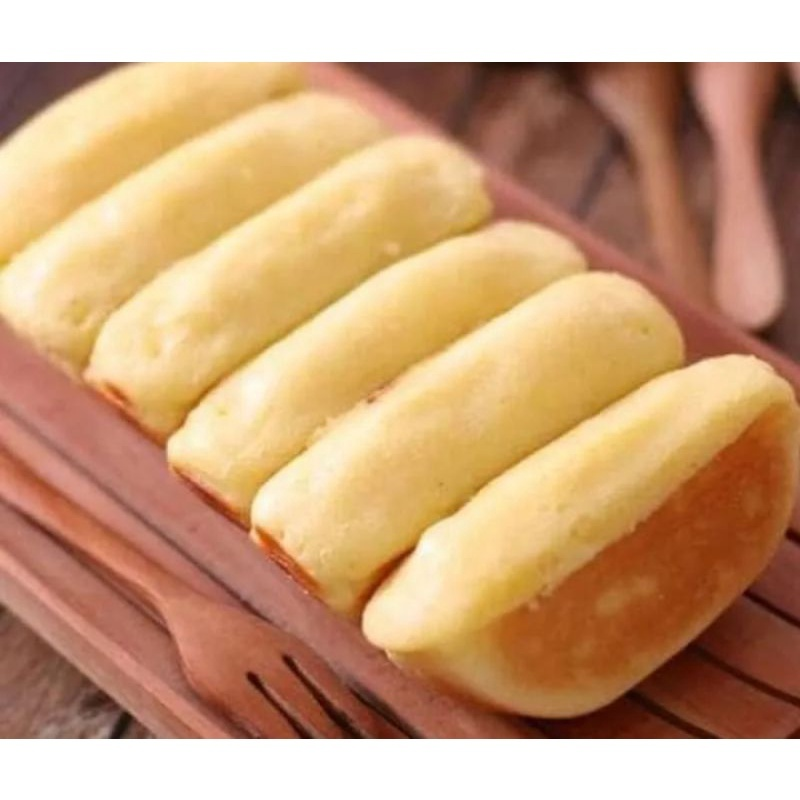pukis: (346, 363, 789, 722)
